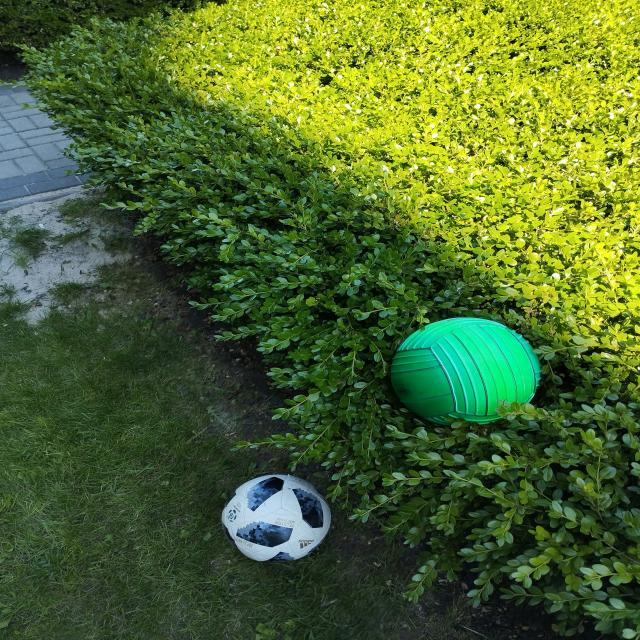nozna: (223, 474, 332, 563)
zielona: (390, 317, 541, 425)
